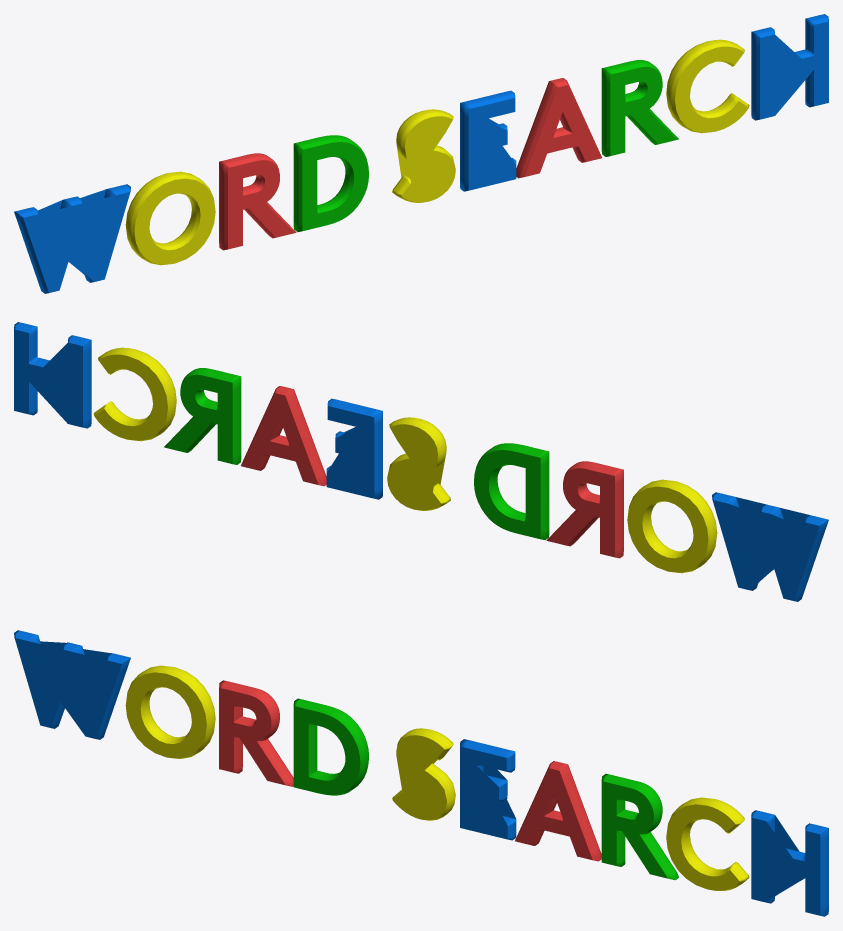
File: word_search.fbx
3 views of the same model, one above another, from view 1: azimuth 30°, elevation 25°; view 2: azimuth 150°, elevation 25°; view 3: azimuth 330°, elevation 25° (orthographic).
Visible parts, largest first — view 1: bevelPolygon1, bevelPolygon13, bevelPolygon5, bevelPolygon7, bevelPolygon11, bevelPolygon6, bevelPolygon9, bevelPolygon8, bevelPolygon10, bevelPolygon12; view 2: bevelPolygon1, bevelPolygon13, bevelPolygon5, bevelPolygon7, bevelPolygon11, bevelPolygon6, bevelPolygon9, bevelPolygon8, bevelPolygon10, bevelPolygon12; view 3: bevelPolygon1, bevelPolygon13, bevelPolygon11, bevelPolygon5, bevelPolygon7, bevelPolygon6, bevelPolygon9, bevelPolygon8, bevelPolygon10, bevelPolygon12.
Part boxes in pixels (x1,y1,x2,y2): bevelPolygon1: (14, 184, 130, 293); bevelPolygon13: (751, 14, 828, 120); bevelPolygon5: (125, 171, 215, 265); bevelPolygon7: (293, 135, 368, 231); bevelPolygon11: (601, 60, 678, 156); bevelPolygon6: (219, 153, 296, 250); bevelPolygon9: (460, 90, 516, 191); bevelPolygon8: (392, 109, 455, 202); bevelPolygon10: (516, 78, 601, 178); bevelPolygon12: (666, 39, 749, 133); bevelPolygon1: (712, 492, 828, 601); bevelPolygon13: (14, 322, 91, 428); bevelPolygon5: (627, 479, 717, 573); bevelPolygon7: (474, 443, 549, 539); bevelPolygon11: (164, 368, 241, 464); bevelPolygon6: (546, 461, 623, 558); bevelPolygon9: (326, 398, 382, 499); bevelPolygon8: (387, 417, 450, 510); bevelPolygon10: (241, 386, 326, 486); bevelPolygon12: (93, 347, 176, 441); bevelPolygon1: (14, 630, 130, 739); bevelPolygon13: (751, 810, 828, 916); bevelPolygon11: (601, 773, 678, 880); bevelPolygon5: (125, 665, 215, 758); bevelPolygon7: (293, 698, 368, 795); bevelPolygon6: (219, 680, 293, 786); bevelPolygon9: (460, 739, 516, 840); bevelPolygon8: (392, 728, 455, 820); bevelPolygon10: (515, 761, 601, 861); bevelPolygon12: (666, 797, 749, 890).
Bounding box in the file's own units: 37.44 × 3.9 × 0.7.
